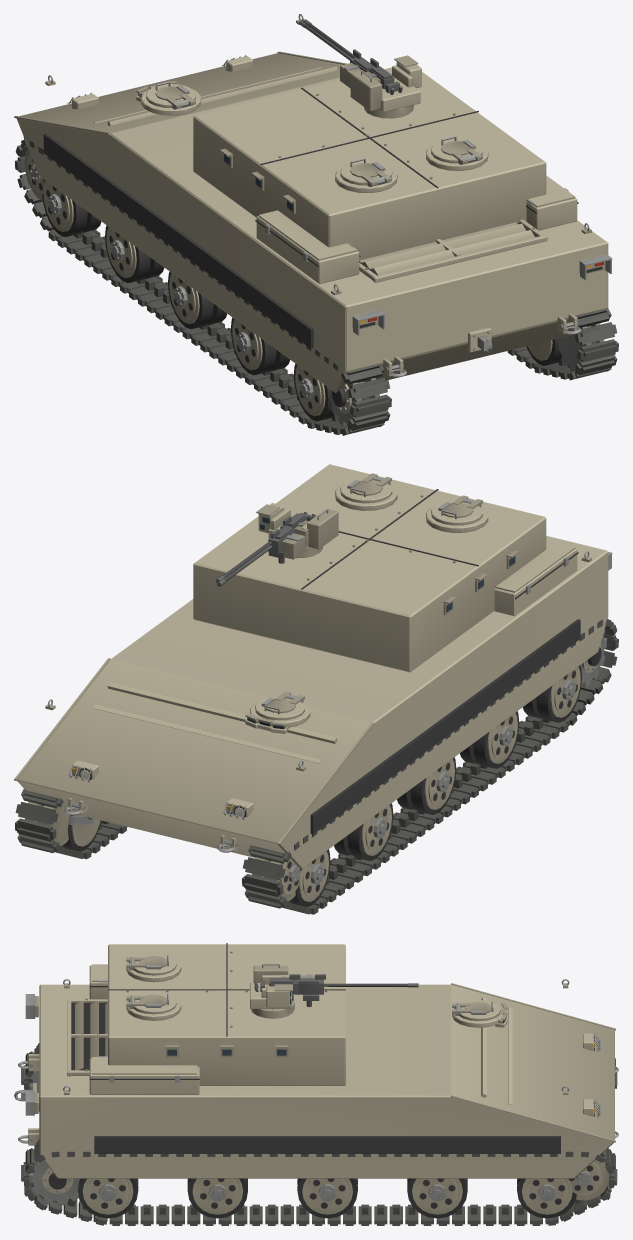
The model's file is rus_apc_btrd.glb.
The picture shows the model from 3 angles, top to bottom: view 1: azimuth 30°, elevation 25°; view 2: azimuth 150°, elevation 25°; view 3: azimuth 270°, elevation 25°; orthographic projection. The views are drawn at different scales.
Parts seen in each view (by area): view 1: body, turret, barrel; view 2: body, turret, barrel; view 3: body, turret, barrel.
Part boxes in pixels (x1,y1,x2,y2): body: [14, 14, 618, 435]; turret: [193, 19, 546, 260]; barrel: [299, 20, 374, 88]; body: [14, 536, 618, 914]; turret: [193, 464, 546, 672]; barrel: [217, 526, 305, 586]; body: [14, 964, 618, 1225]; turret: [108, 943, 415, 1085]; barrel: [295, 974, 418, 1007].
Size of the model in its own units: 2.97 by 2.59 by 6.61.
